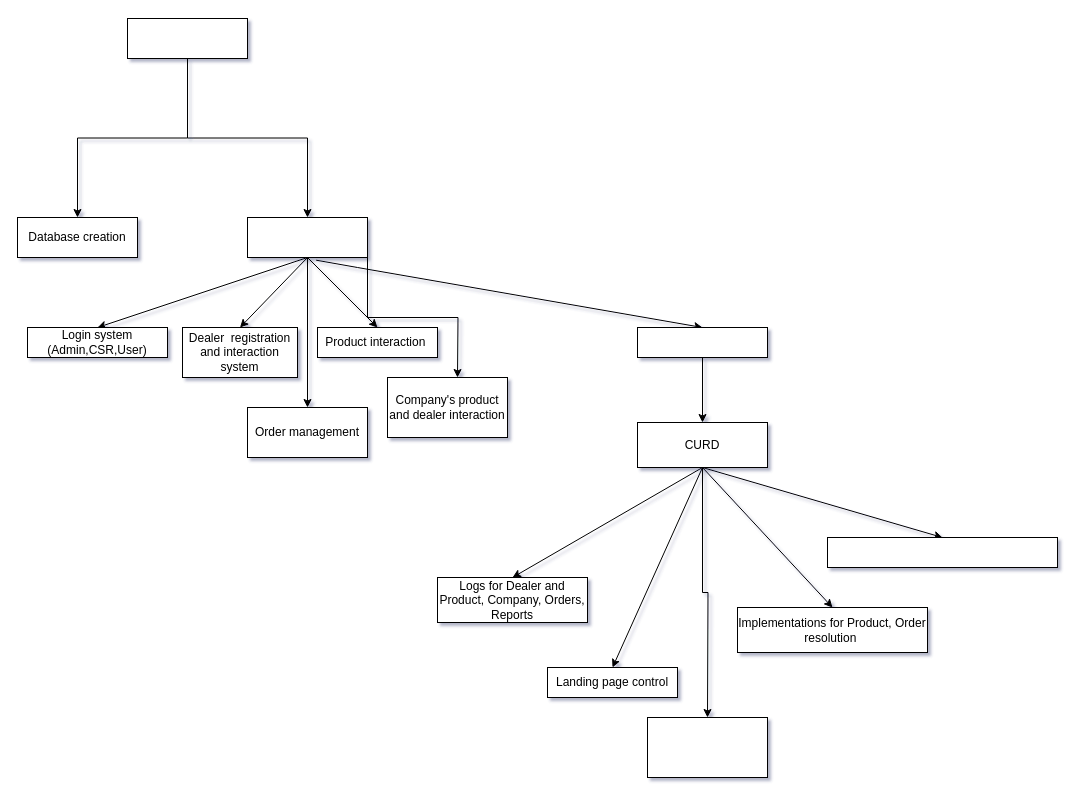
This 1081x801 diagram has some shape labels left out. Each missing label, with the box of its shape:
Abstract and Database scema/diagram: (126, 18, 248, 58)
Admin dashboard(Full control): (636, 326, 768, 358)
Display Company reports and details: (826, 536, 1058, 568)
Modules creation: (246, 216, 368, 258)
Rules for discount and offers for volume Purchase: (646, 716, 768, 778)
